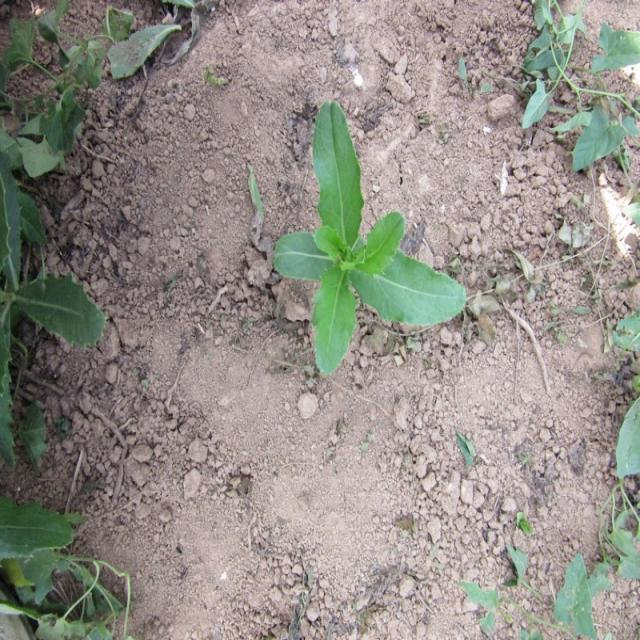cs: (266, 91, 472, 380)
